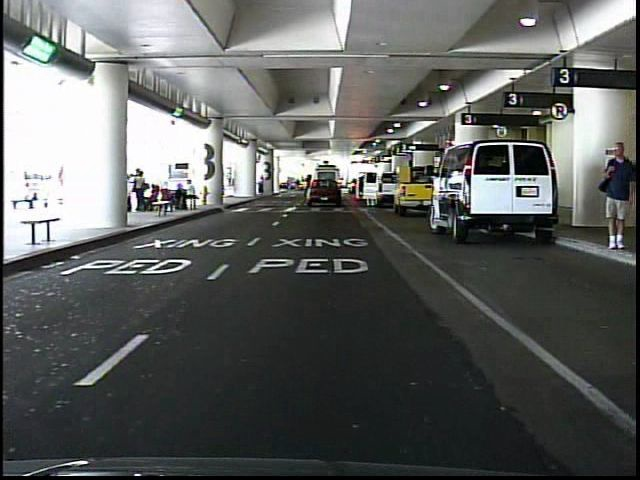person: (595, 135, 632, 253), (257, 171, 269, 196)
